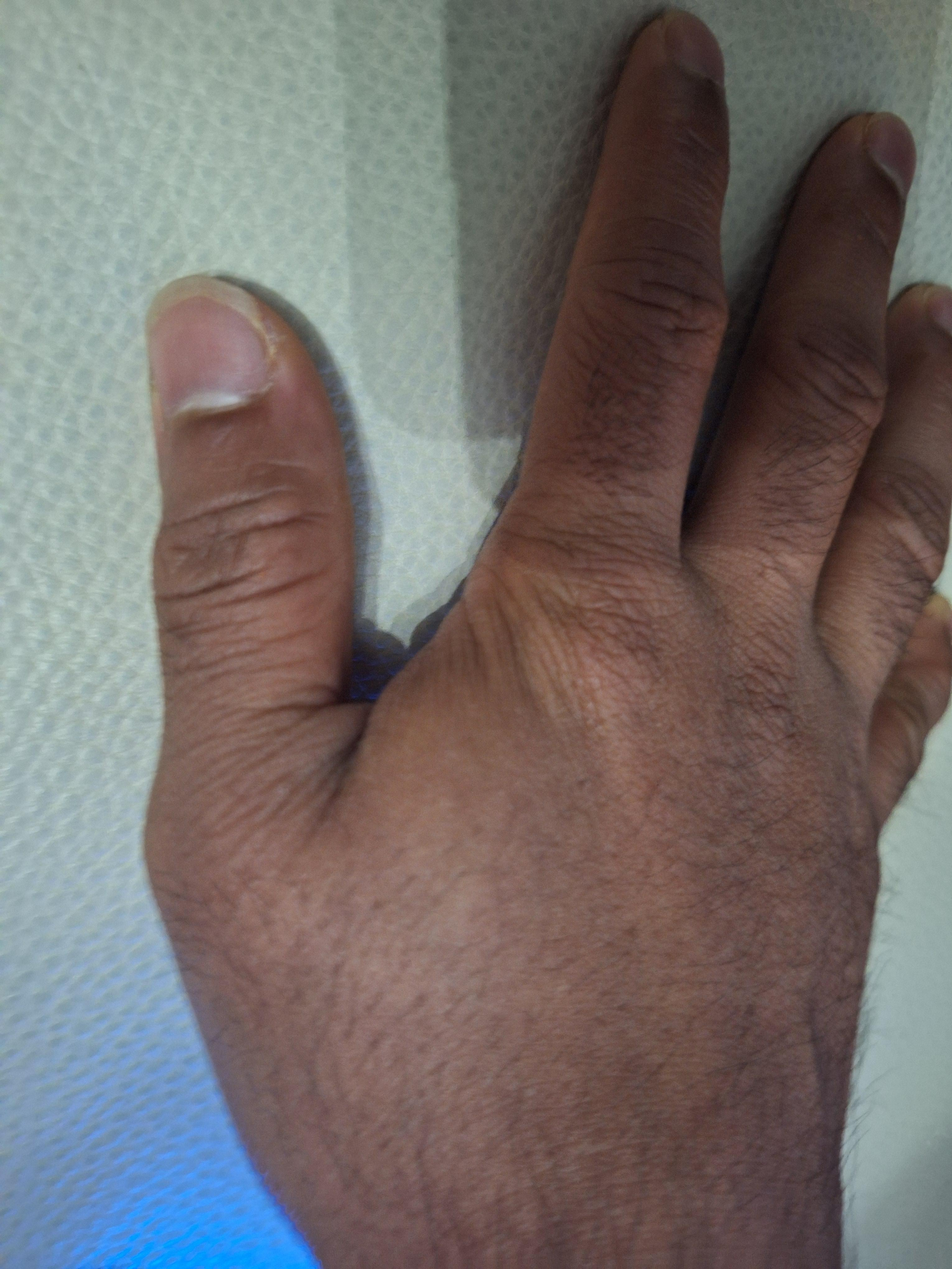Fingernail: (143, 277, 274, 412), (865, 113, 917, 200), (666, 7, 724, 79)
